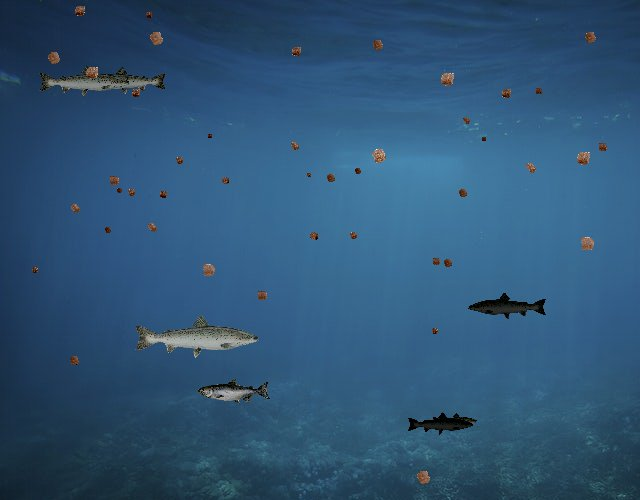Fish: (132, 313, 261, 359), (37, 64, 131, 98), (82, 65, 168, 96), (467, 292, 548, 321), (199, 378, 272, 405), (406, 412, 474, 436), (431, 413, 478, 430)
Pellet: (433, 65, 462, 94), (569, 144, 597, 172), (578, 25, 602, 49), (286, 41, 307, 62), (453, 183, 472, 202), (345, 227, 362, 244), (428, 324, 442, 338), (28, 263, 42, 277)
